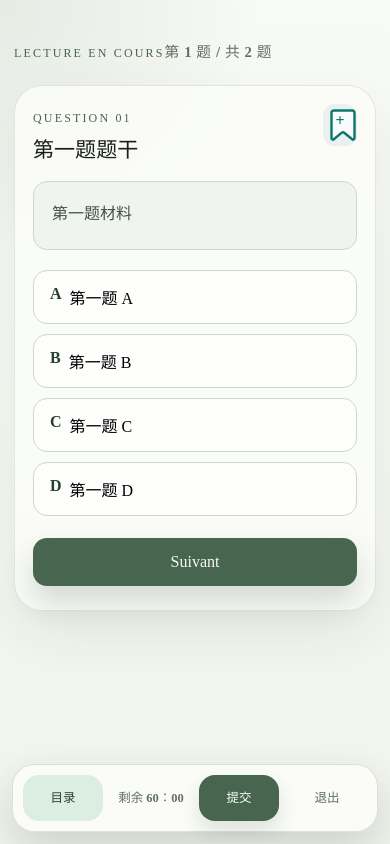
Test: PracticePage › allows submitting from the mobile practice toolbar
expect the heading "第一题题干" is shown: met, box [33,138,138,162]
Click the button named "A第一题 A".
click(101, 299)  # box [33,270,357,324]
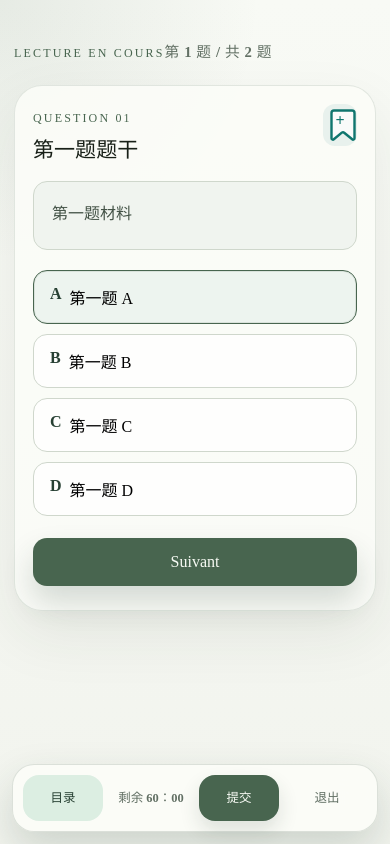
Click the button with aria-label "移动端提交".
click(239, 798)  # box [199,775,279,821]
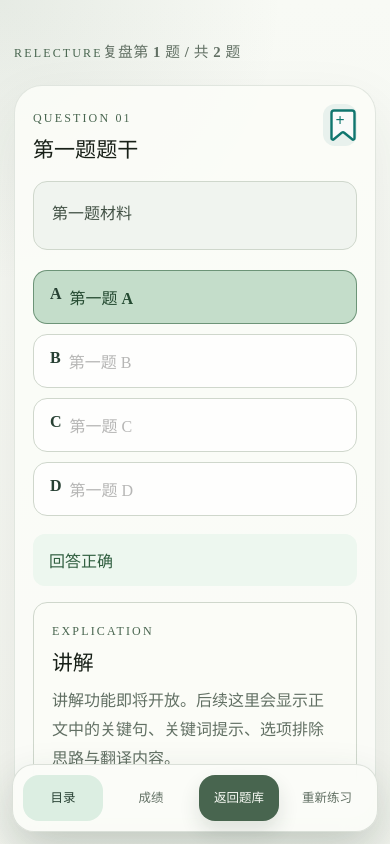
expect the text "复盘第 1 题 / 共 2 题" is shown: met, box [103,44,241,60]
